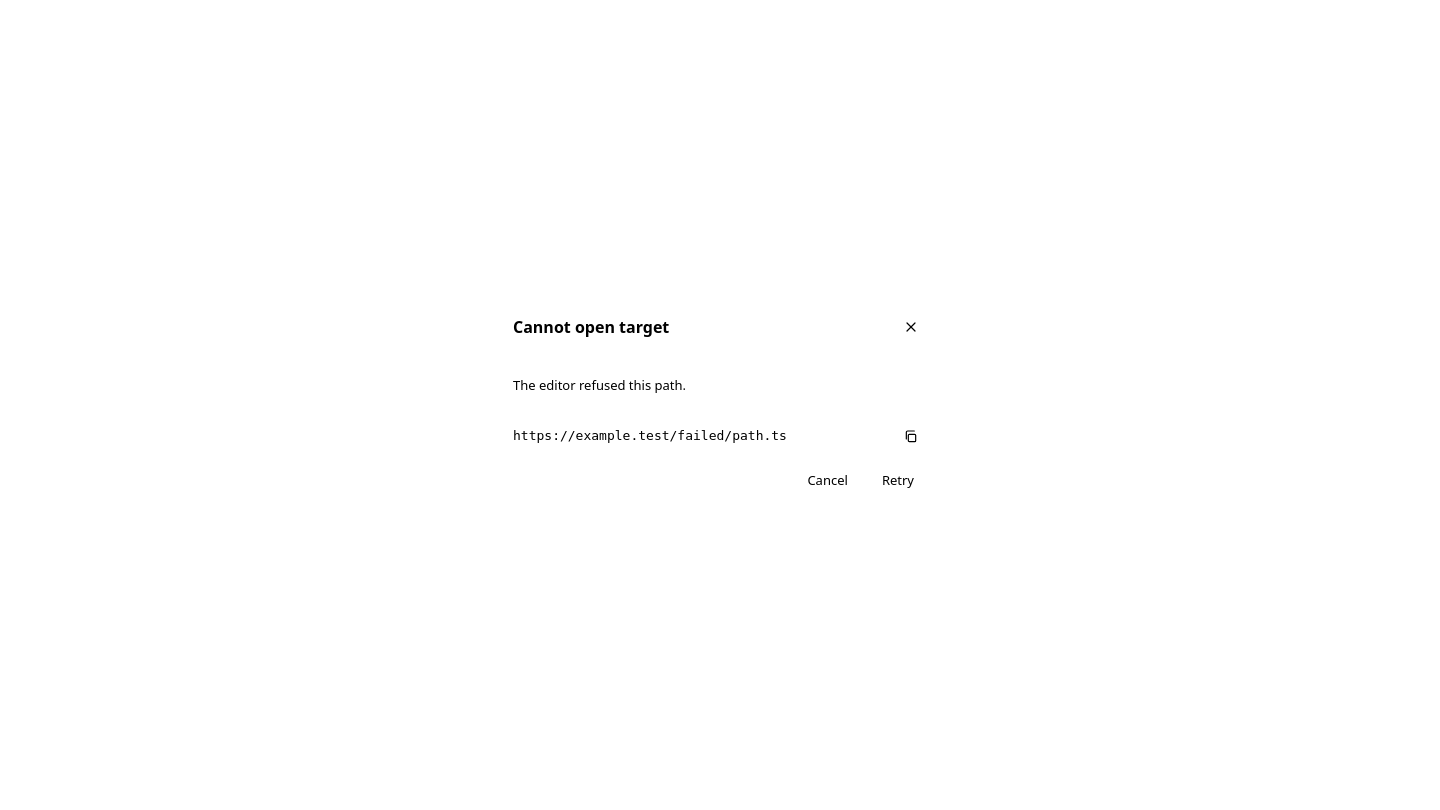
Scenario: ToolLinkErrorDialog › renders error message, target href, and copy button that copies the href
This screenshot has width=1440, height=810.
Expected: the dialog is shown, left=496, top=294, right=944, bottom=516
Expected: the heading "Cannot open target" is shown, left=513, top=316, right=669, bottom=339
What coordinates should you click on to do the following:
click the button named "Copy"
I would click on:
 (911, 436)
Its box is left=895, top=420, right=927, bottom=452.
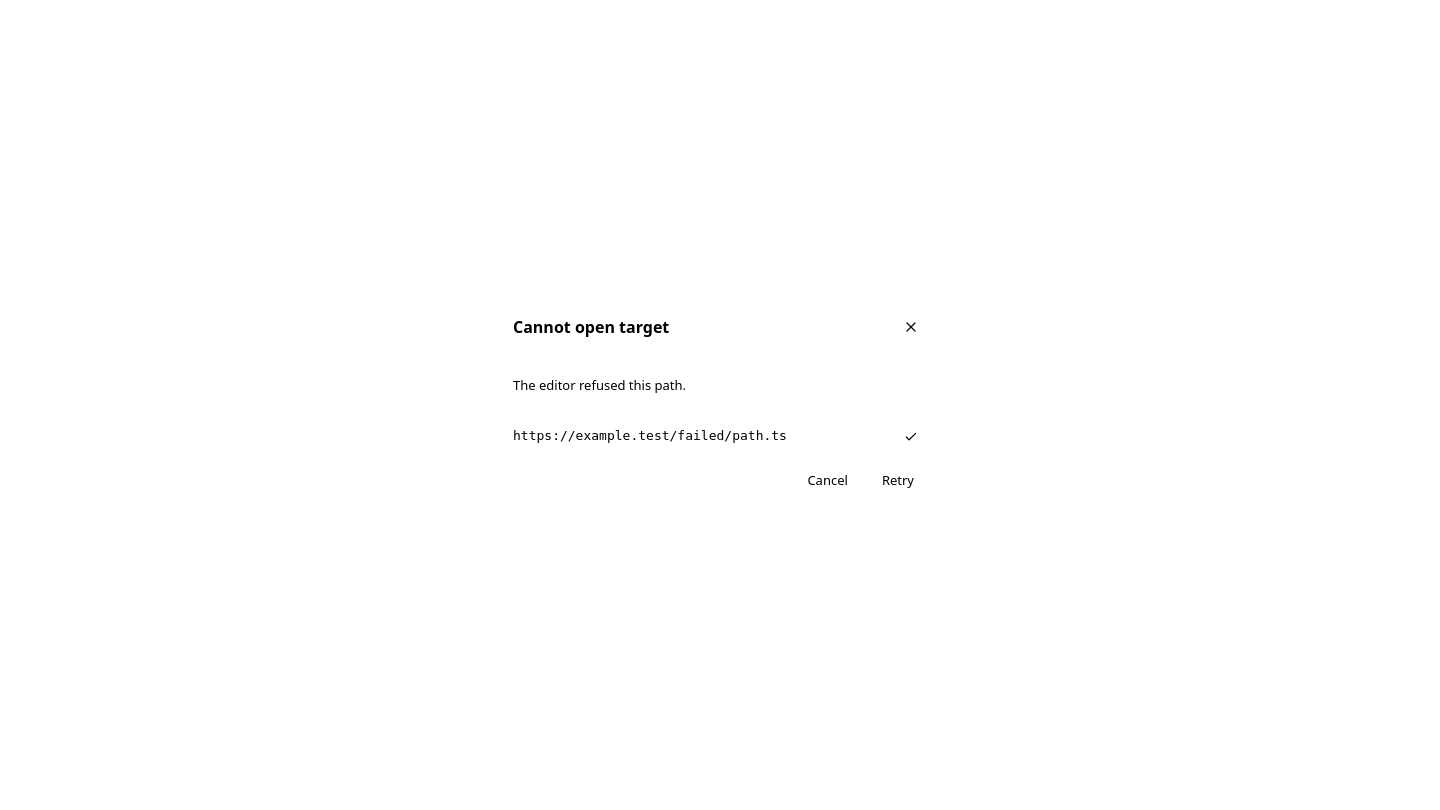
Result: the button named "Copied" is shown at left=895, top=420, right=927, bottom=452
